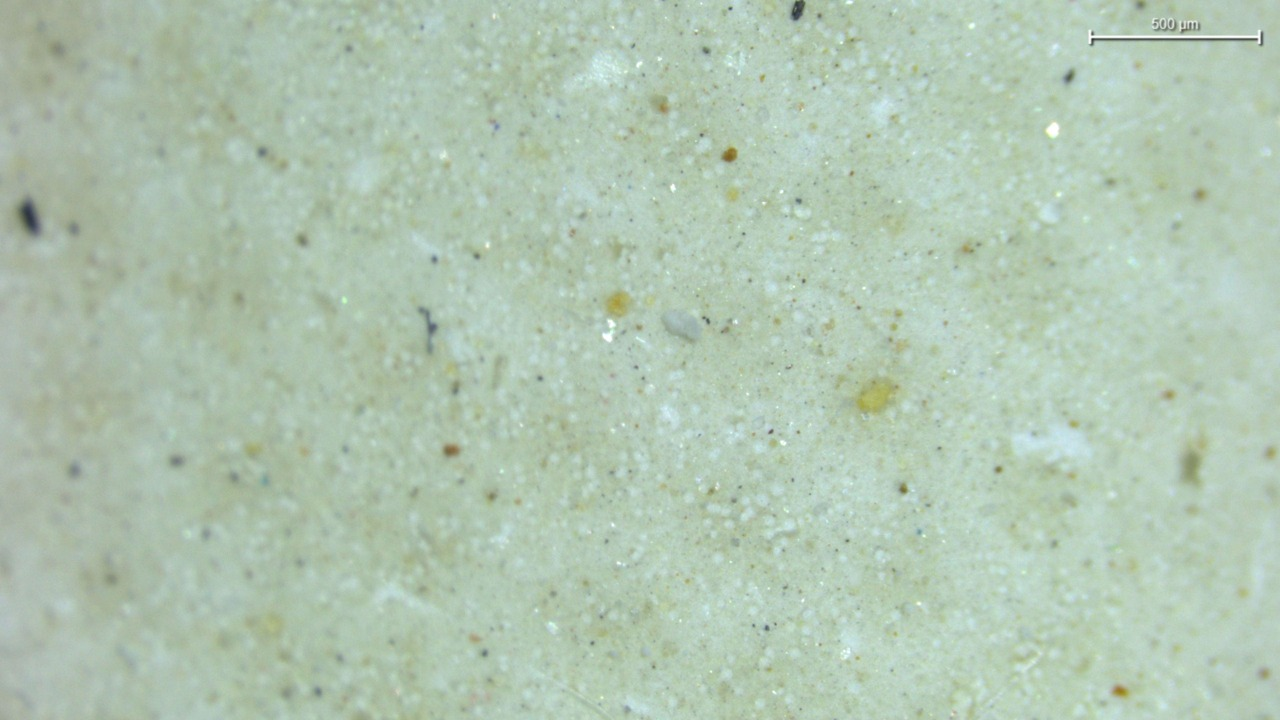microplastic_fragment: (662, 311, 702, 341)
